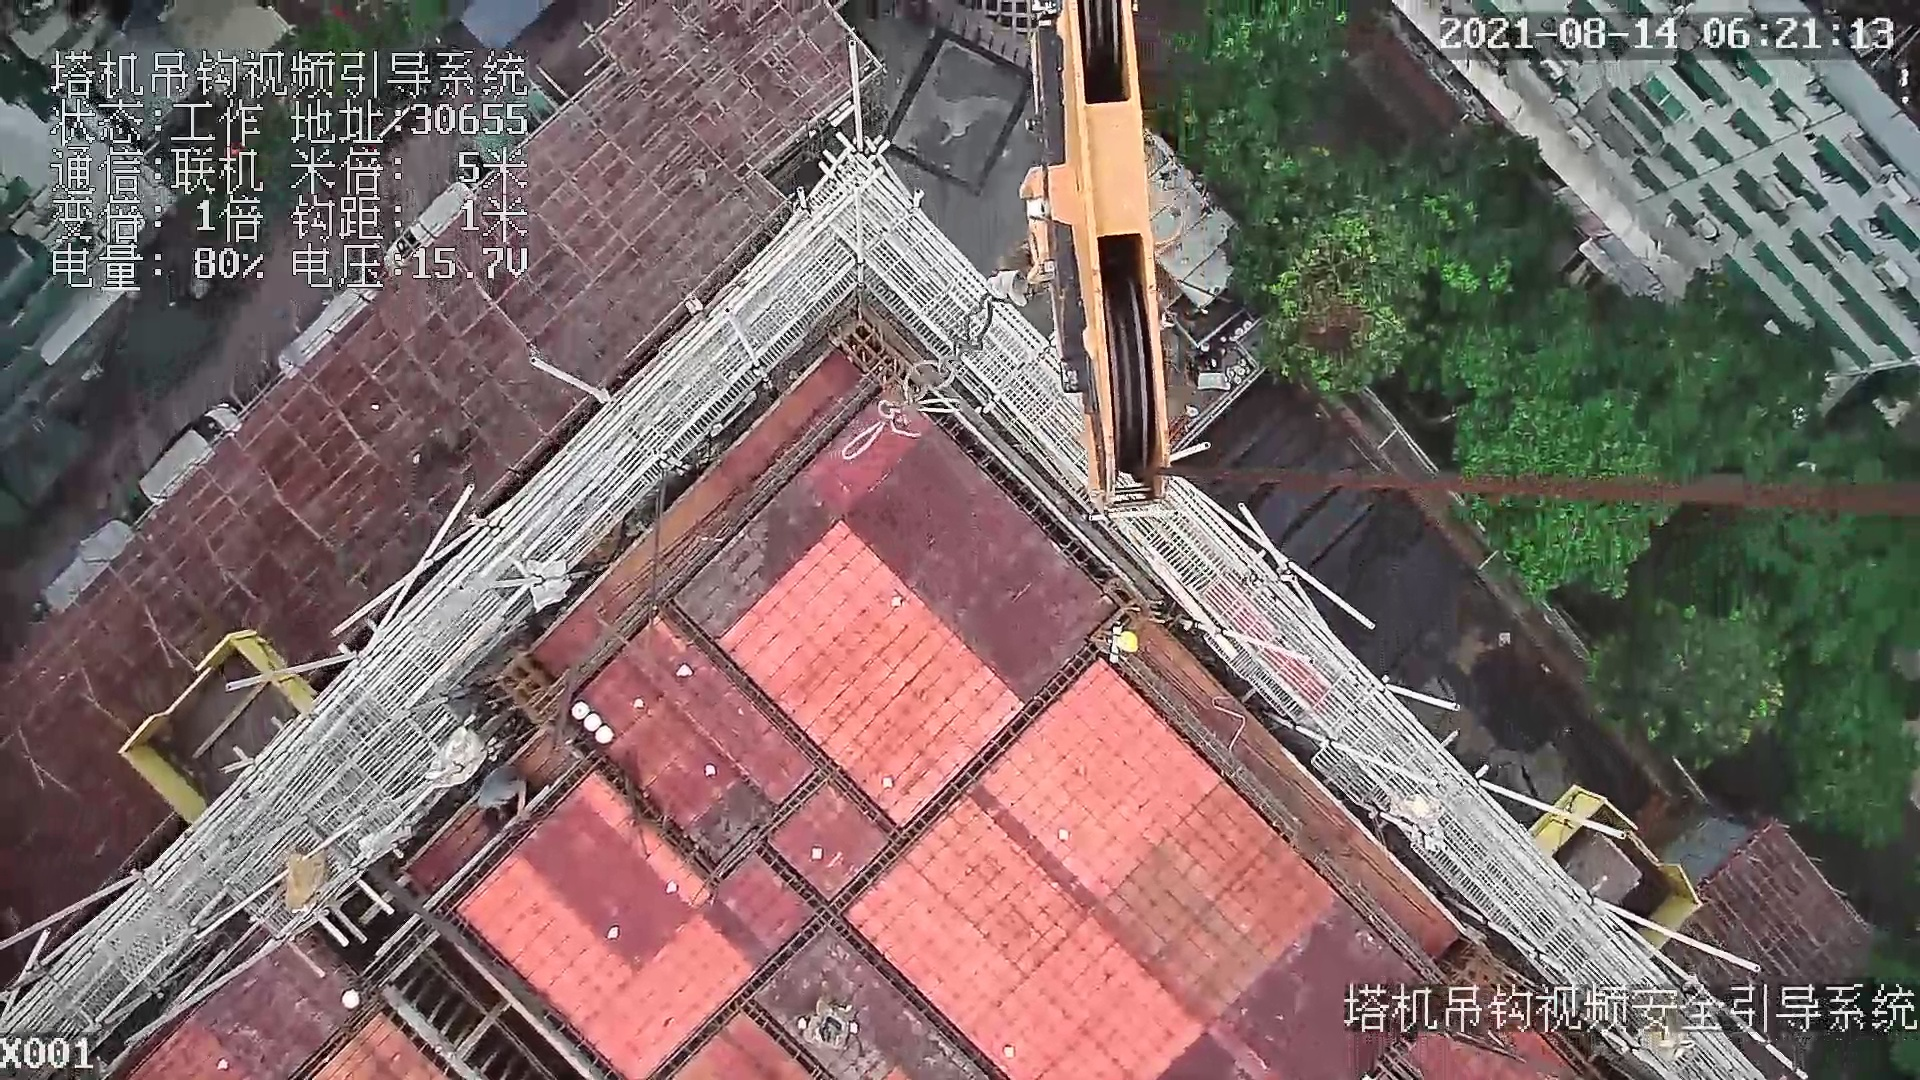helmet: (1100, 611, 1145, 669)
hook: (1036, 1, 1178, 512)
